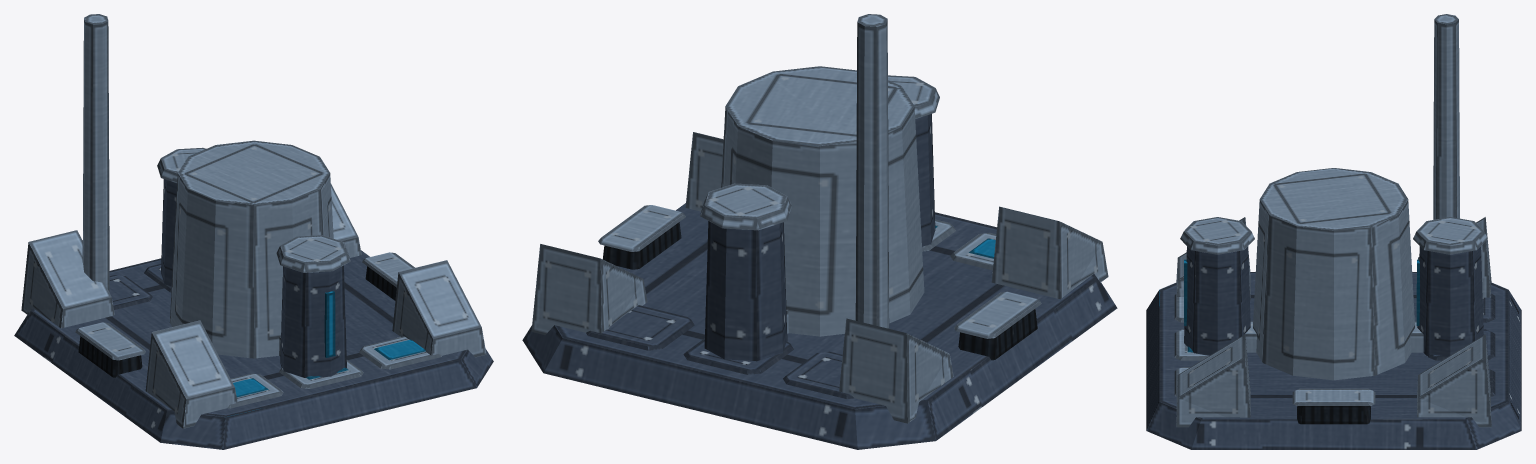
The model's file is building-synthetic.fbx.
3 views of the same model, side by side, from view 1: azimuth 30°, elevation 25°; view 2: azimuth 150°, elevation 25°; view 3: azimuth 270°, elevation 25° (orthographic). The views are drawn at different scales.
Parts seen in each view (by area): view 1: building-synthetic; view 2: building-synthetic; view 3: building-synthetic.
Boxes of the visible parts, left/top/right/bottom form: building-synthetic: left=14, top=14, right=493, bottom=449; building-synthetic: left=522, top=14, right=1117, bottom=449; building-synthetic: left=1146, top=14, right=1521, bottom=449.
Size of the model in its own units: 2184 by 1950 by 2184.
1 material, 1 textured.
